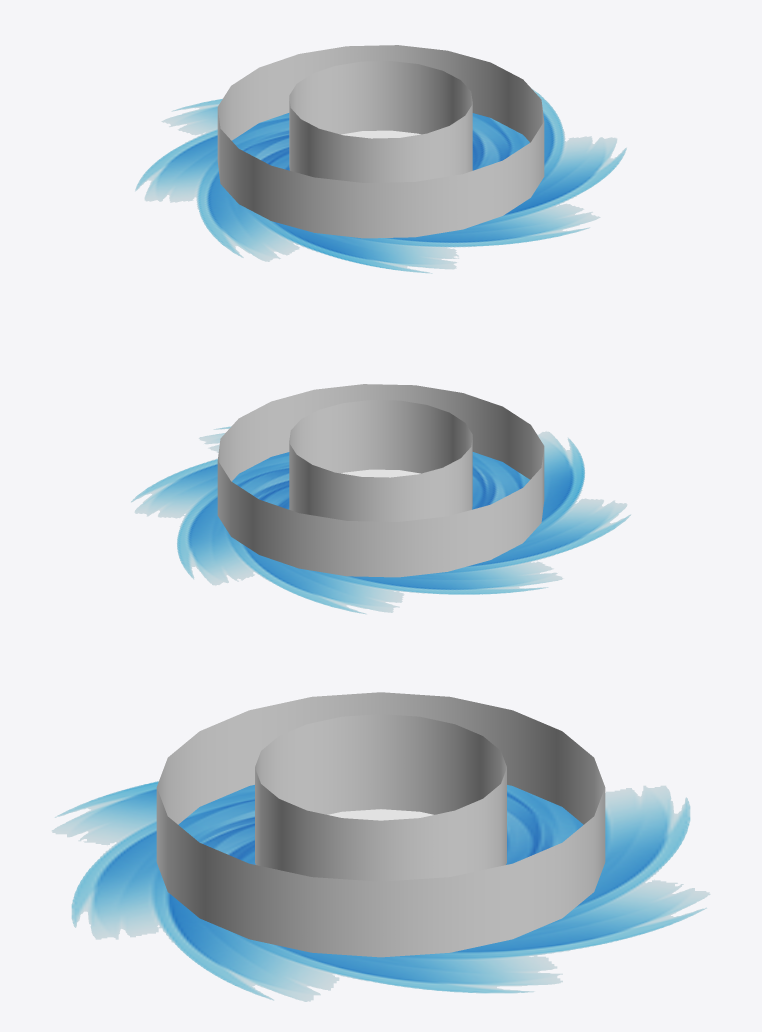
Rendered from Portal.fbx.
3 views of the same model, one above another, from view 1: azimuth 30°, elevation 25°; view 2: azimuth 150°, elevation 25°; view 3: azimuth 270°, elevation 25° (orthographic). The views are drawn at different scales.
Parts seen in each view (by area): view 1: PortalMesh; view 2: PortalMesh; view 3: PortalMesh.
Boxes of the visible parts, x1,y1,x2,y2 form: PortalMesh: (135, 45, 626, 273); PortalMesh: (131, 384, 631, 614); PortalMesh: (51, 692, 710, 1001).
Bounding box in the file's own units: 10 × 1.43 × 10.
Materials: 2 (2 with a texture image).
